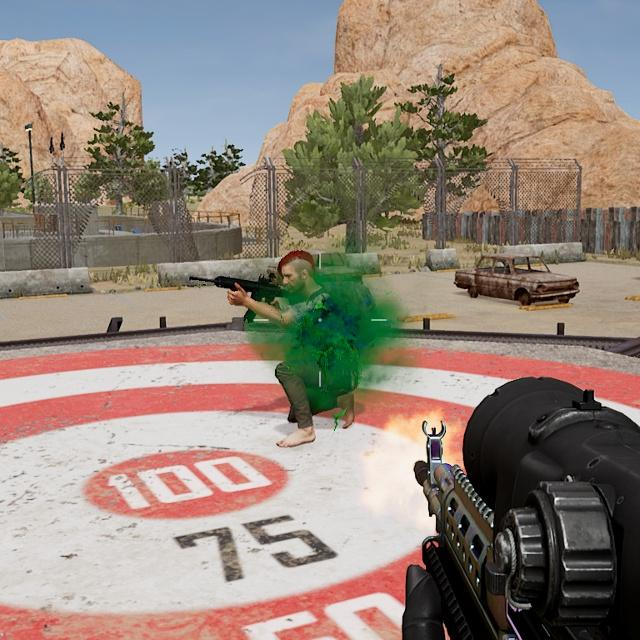head: (276, 249, 318, 291)
people: (250, 248, 369, 452)
